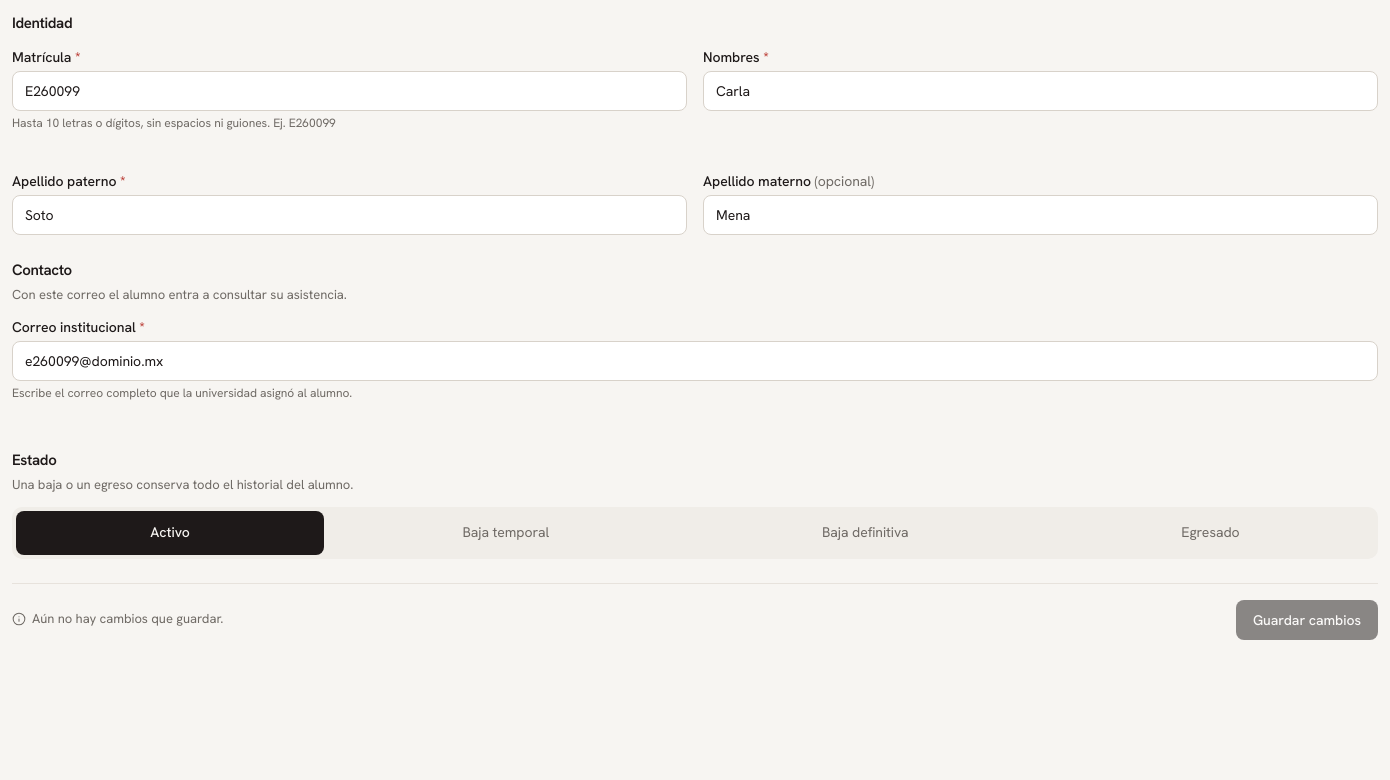
Test: AlumnoForm (edición de la ficha) › sin cambios, guardar está apagado y dice por qué; al editar aparece «Cambios sin guardar»
Expected: the button "Guardar cambios" is disabled, [1236,600,1378,640]
Expected: the text "Aún no hay cambios que guardar." is shown, [32,610,223,629]
Type "ita" into the field labelled "Nombres *". click: [1040, 90]
box: [703,70,1378,110]
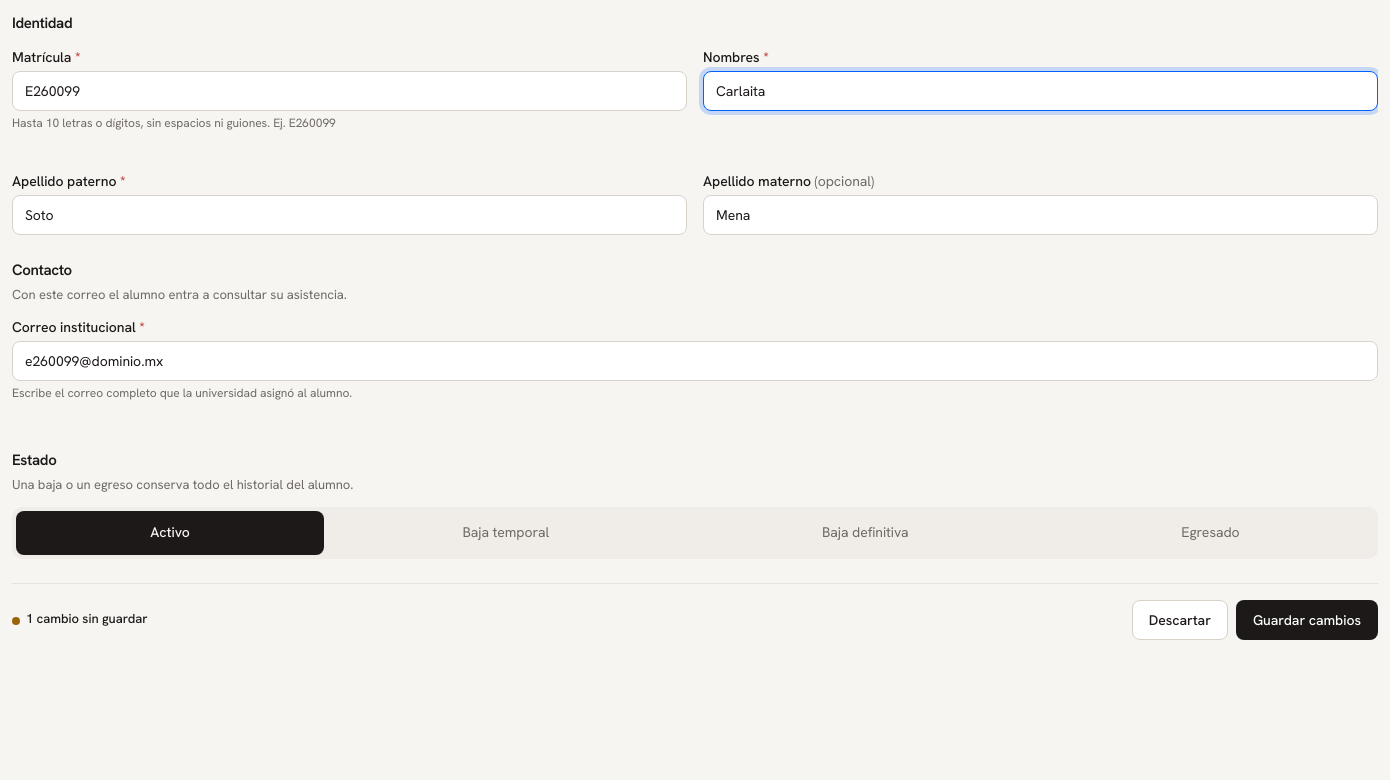
Now the button "Guardar cambios" is enabled, box [1236,600,1378,640]
Now the text "1 cambio sin guardar" is shown, box [26,610,148,629]
Click the button "Descartar". click: [1180, 620]
box: [1132,600,1228,640]
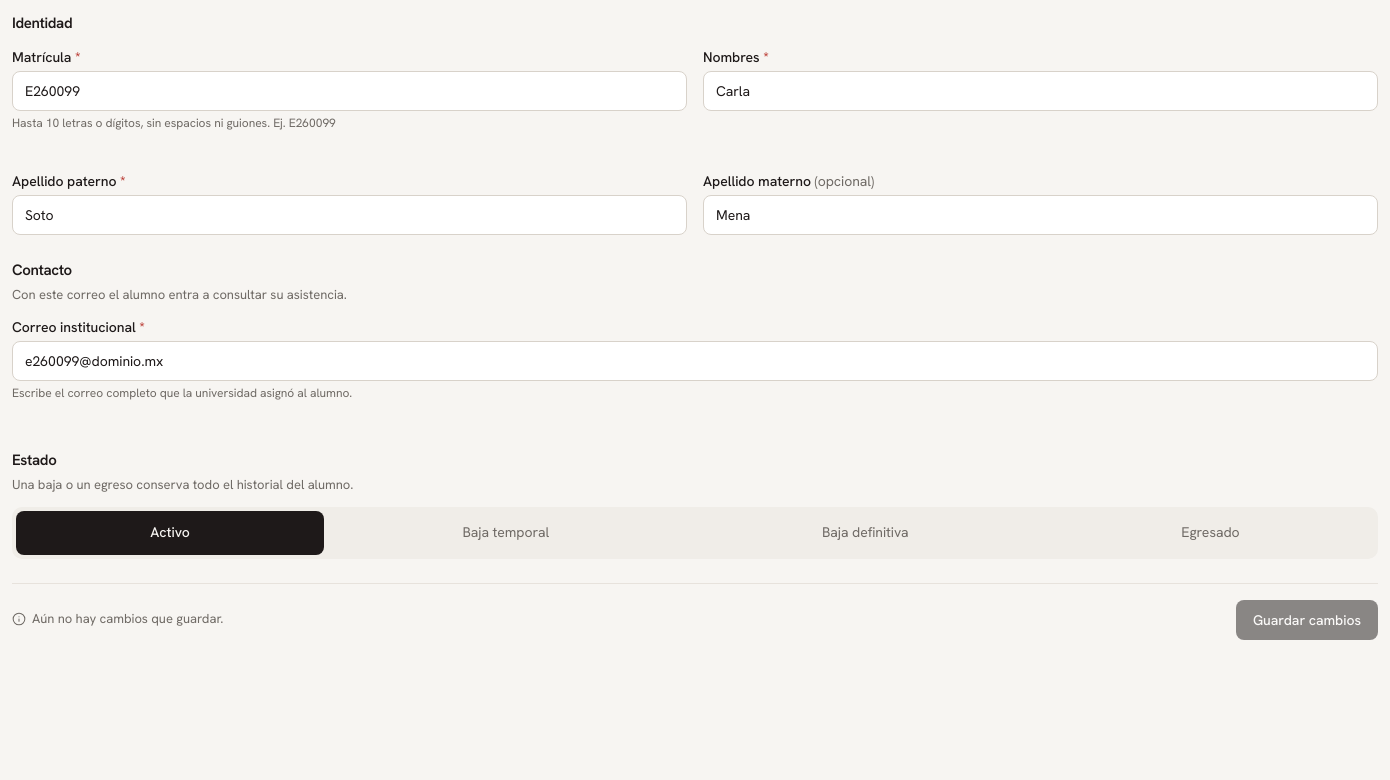
Now the field labelled "Nombres *" holds "Carla", box [703,70,1378,110]
Now the button "Guardar cambios" is disabled, box [1236,600,1378,640]
